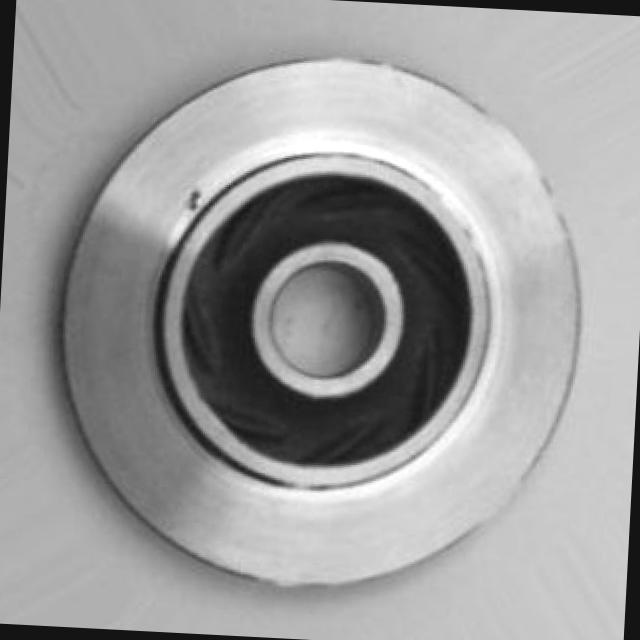Defect: (183, 184, 208, 212)
